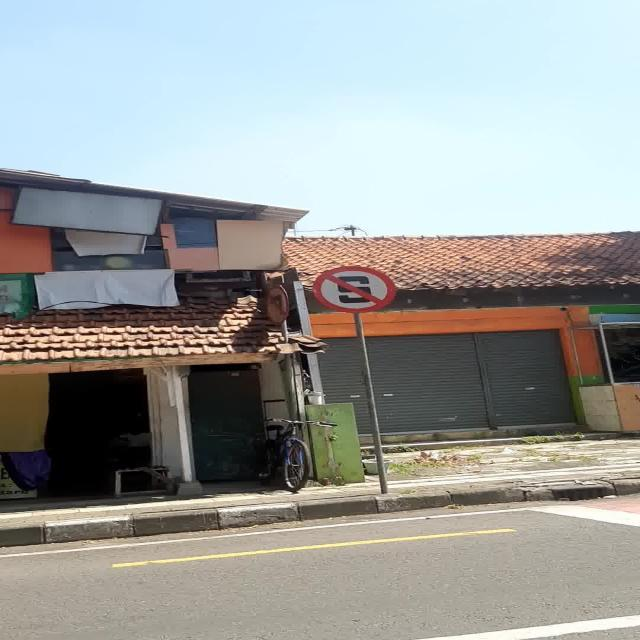Dilarang Berhenti: (313, 266, 395, 313)
